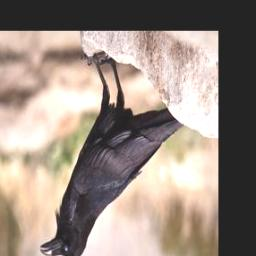Crow: (38, 56, 186, 256)
